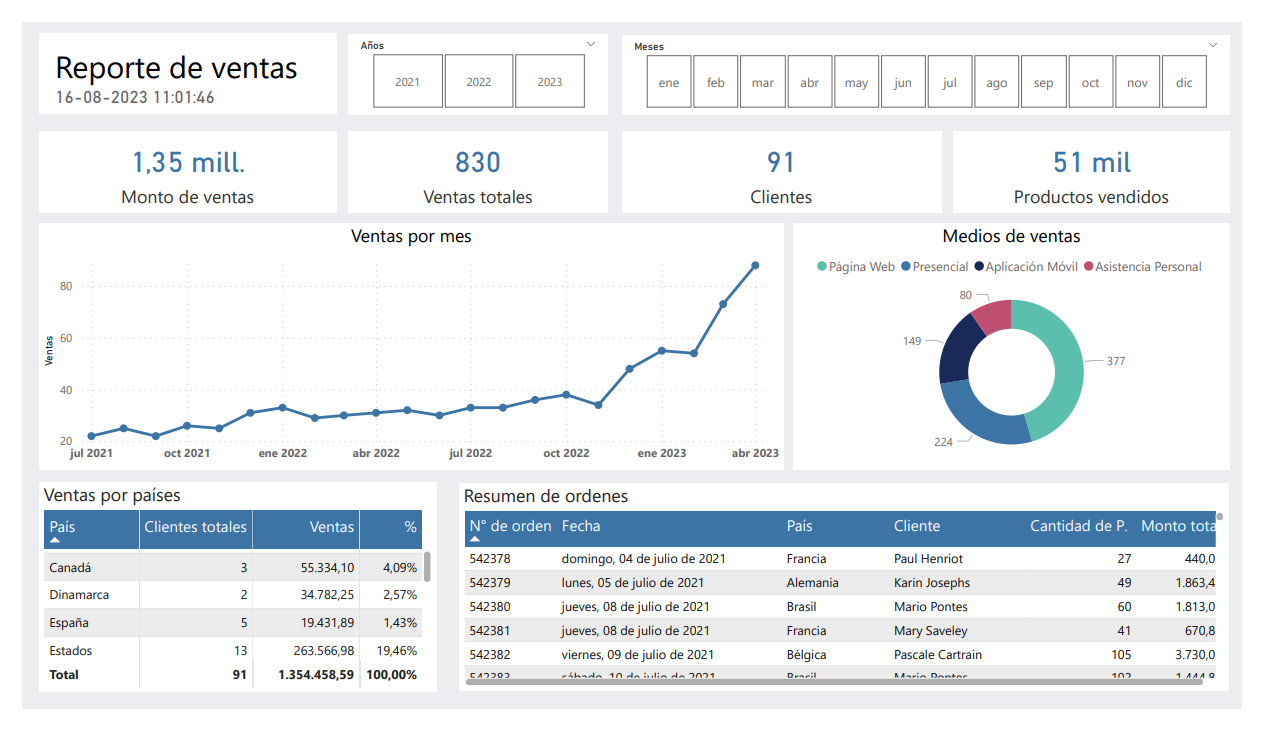

The dashboard page shown, as its layout file describes it:
{"tool":"powerbi","page":{"name":"Reporte de ventas","canvas":[1280,720],"ordinal":0},"visuals":[{"type":"tableEx","title":"Ventas por países","fields":{"Values":["country.name","customer.id","order.total_amount","order.total_amount"]},"box":[17.5,482.5,417.5,220],"z":0},{"type":"lineChart","title":"Ventas por mes","fields":{"Y":["order.id"],"Category":["calendar.Date.Variación.Jerarquía de fechas.Año","calendar.Date.Variación.Jerarquía de fechas.Mes"]},"box":[17.5,211.2,782.5,258.8],"z":1000},{"type":"tableEx","title":"Resumen de ordenes","fields":{"Values":["order.order_number","order.order_date","country.name","customer.full_name","order_item.quantity","order.total_amount"]},"box":[459,483.6,808.2,218],"z":2000},{"type":"donutChart","title":"Medios de ventas","fields":{"Category":["order_type.name"],"Y":["order.id"]},"box":[809.6,211,458.9,258.9],"z":3000},{"type":"slicer","fields":{"Values":["calendar.abbreviated_month"]},"box":[630.1,13.7,638.4,83.6],"z":4000},{"type":"slicer","fields":{"Values":["calendar.Date.Variación.Jerarquía de fechas.Año"]},"box":[343.3,13.3,271.7,83.3],"z":5000},{"type":"card","fields":{"Values":["order.total_amount"]},"box":[18.3,115,311.7,85],"z":7000},{"type":"card","fields":{"Values":["order.id"]},"box":[343.3,115,271.7,85],"z":8000},{"type":"card","fields":{"Values":["customer.id"]},"box":[630,115,335,85],"z":9000},{"type":"card","fields":{"Values":["order_item.quantity"]},"box":[978.1,115.1,290.4,84.9],"z":10000},{"type":"cardVisual","fields":{"Data":["Last Refresh Data.last_refresh"]},"box":[17.8,12.3,312.3,83.6],"z":11000}]}

Visuals, with their boxes on the page's 1280x720 design canvas (x1, y1, x2, y2). These are canvas units, not pixel positions in the 1263x730 screenshot, which may show the page scaled, cropped or inside an application window:
"Ventas por países" tableEx: 18:482:435:702
"Ventas por mes" lineChart: 18:211:800:470
"Resumen de ordenes" tableEx: 459:484:1267:702
"Medios de ventas" donutChart: 810:211:1268:470
slicer - calendar.abbreviated_month: 630:14:1268:97
slicer - calendar.Date.Variación.Jerarquía de fechas.Año: 343:13:615:97
card - order.total_amount: 18:115:330:200
card - order.id: 343:115:615:200
card - customer.id: 630:115:965:200
card - order_item.quantity: 978:115:1268:200
cardVisual - Last Refresh Data.last_refresh: 18:12:330:96
